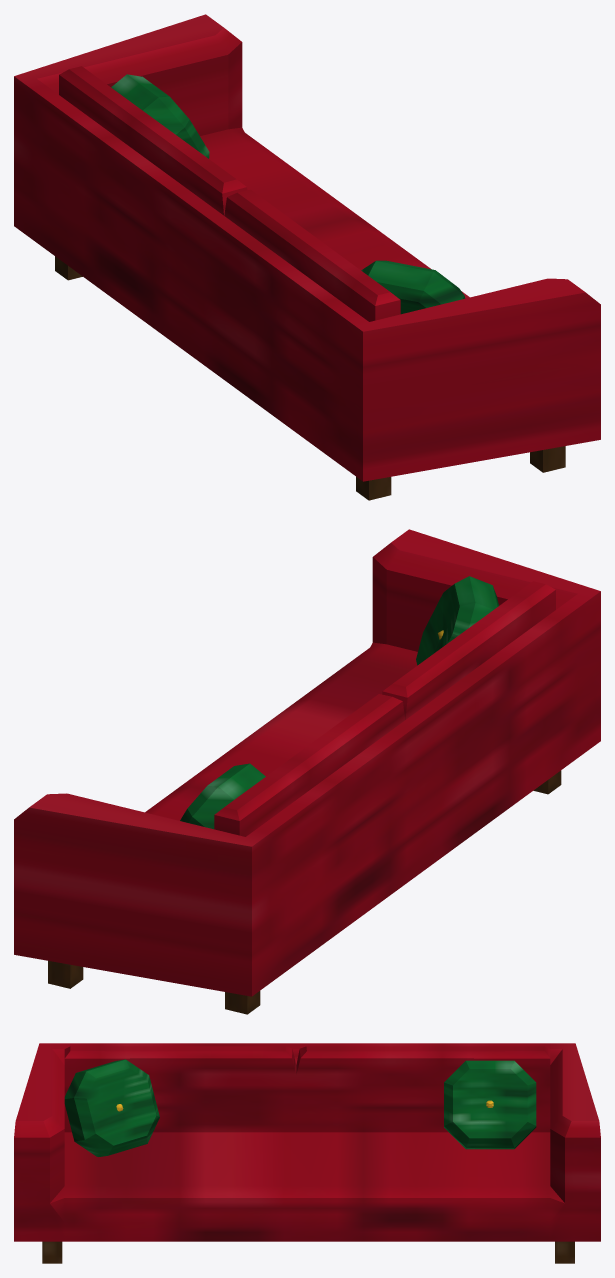
Rendered from couch.fbx.
3 views of the same model, one above another, from view 1: azimuth 30°, elevation 25°; view 2: azimuth 150°, elevation 25°; view 3: azimuth 270°, elevation 25° (orthographic). The views are drawn at different scales.
Visible parts, largest first — view 1: pCube9; view 2: pCube9; view 3: pCube9.
Part boxes in pixels (left/top/right/bottom): pCube9: left=14, top=14, right=600, bottom=500; pCube9: left=14, top=529, right=600, bottom=1014; pCube9: left=14, top=1043, right=600, bottom=1263.
Bounding box in the file's own units: 6.43 × 5.55 × 19.22.
